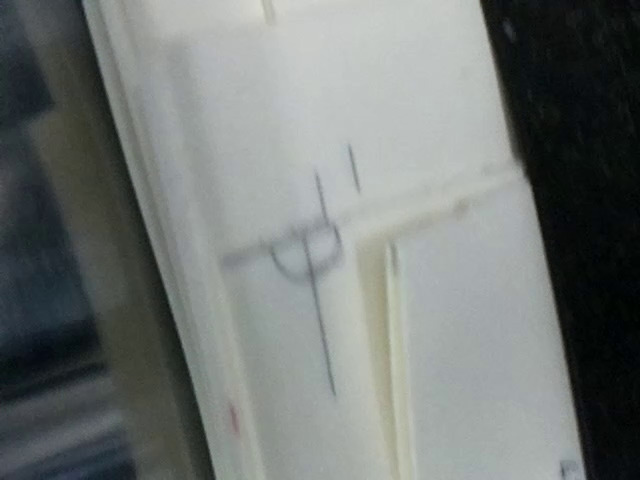not_sure: (216, 167, 348, 287)
